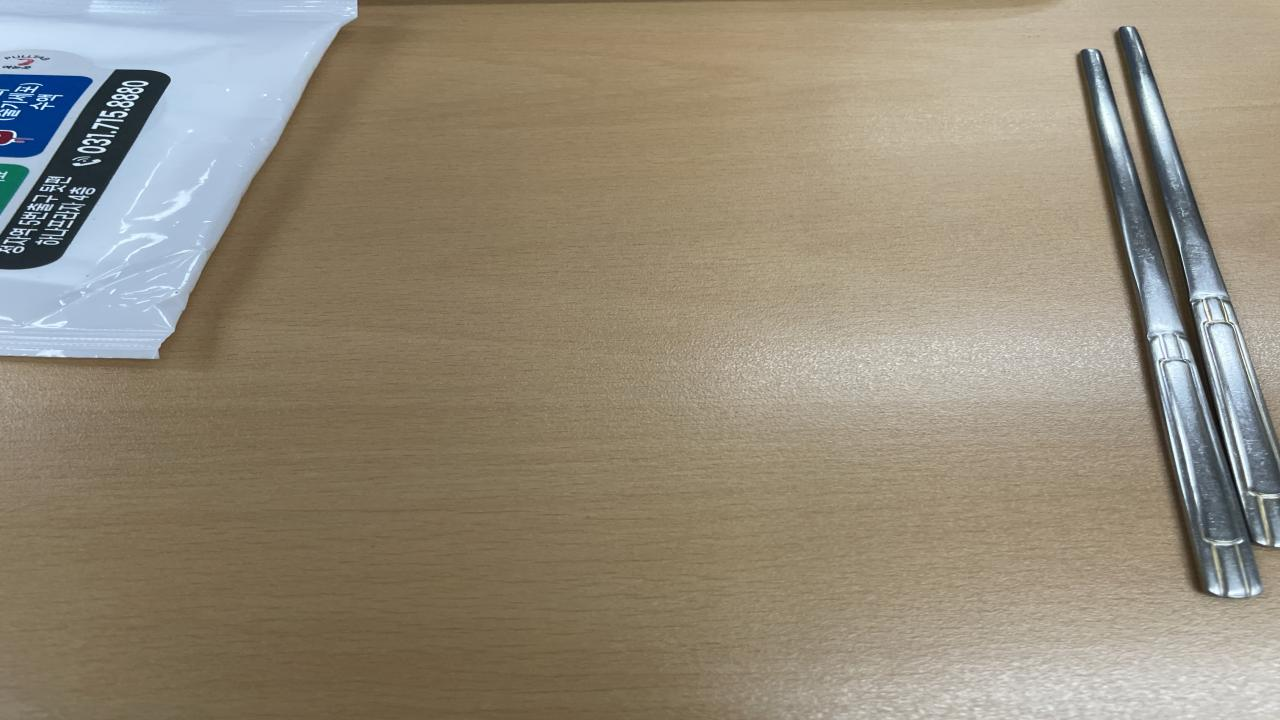chopstick: (1080, 25, 1280, 602)
